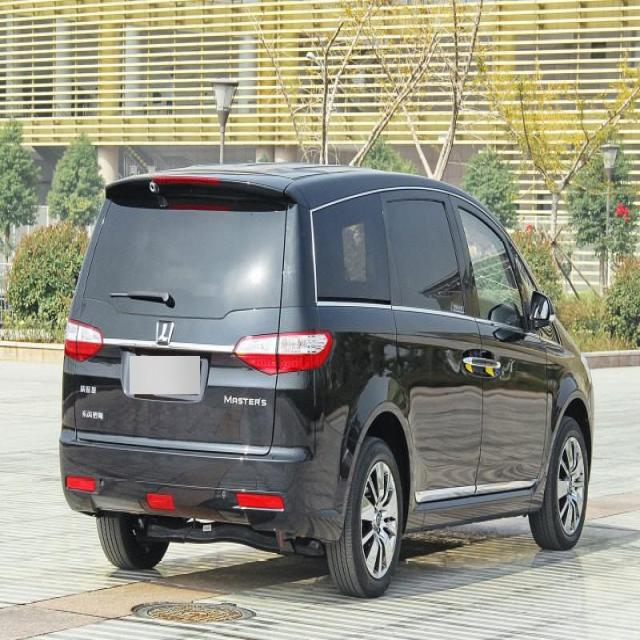back_glass: (83, 190, 294, 321)
back_left_side_light: (62, 313, 105, 362)
back_right_side_light: (231, 326, 335, 376)
door: (376, 183, 479, 507)
front_right_side_door: (446, 184, 554, 512)
front_right_side_mirror: (528, 286, 555, 330)
rear_bumper: (56, 421, 334, 541)
wheel: (327, 433, 402, 594), (529, 417, 591, 545)
